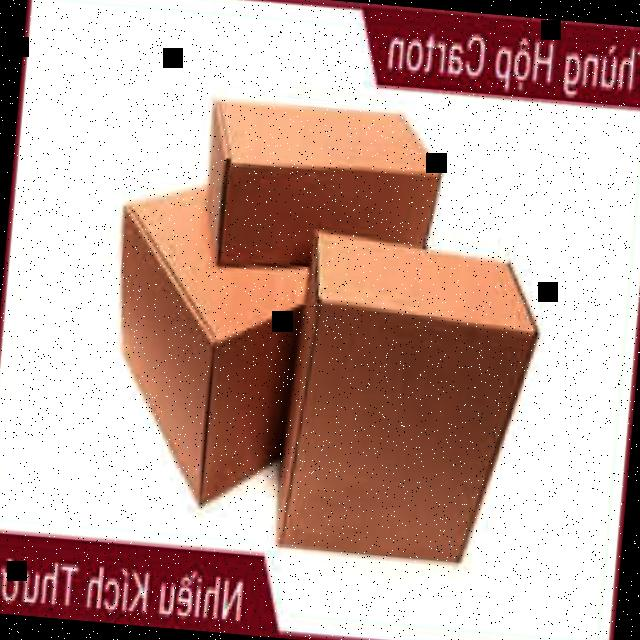cardboard_box: (266, 228, 562, 573), (82, 185, 363, 508), (188, 91, 457, 288)
